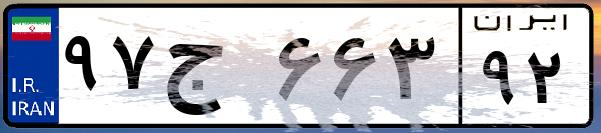2: (525, 38, 570, 115)
3: (385, 28, 445, 110)
6: (270, 28, 330, 110), (330, 28, 385, 110)
7: (110, 28, 158, 98)
9: (57, 26, 110, 100), (475, 38, 525, 113)
ج: (158, 20, 270, 120)
